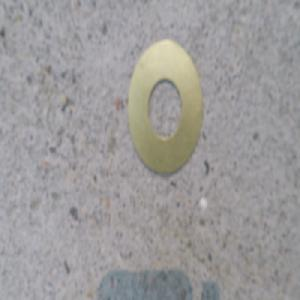Washer: (119, 41, 198, 180)
